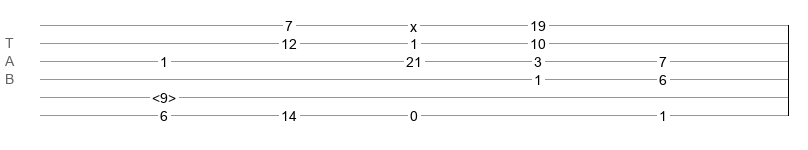0: (410, 108, 418, 118)
1: (160, 54, 168, 64), (410, 36, 418, 46), (534, 72, 542, 82), (659, 108, 667, 118)
10: (530, 36, 546, 46)
12: (281, 36, 297, 46)
14: (281, 108, 297, 118)
19: (530, 18, 546, 28)
21: (406, 54, 422, 64)
3: (534, 54, 542, 64)
6: (160, 108, 168, 118), (659, 72, 667, 82)
7: (285, 18, 293, 28), (659, 54, 667, 64)
harmonic: (152, 90, 176, 100)
x: (410, 19, 417, 27)
